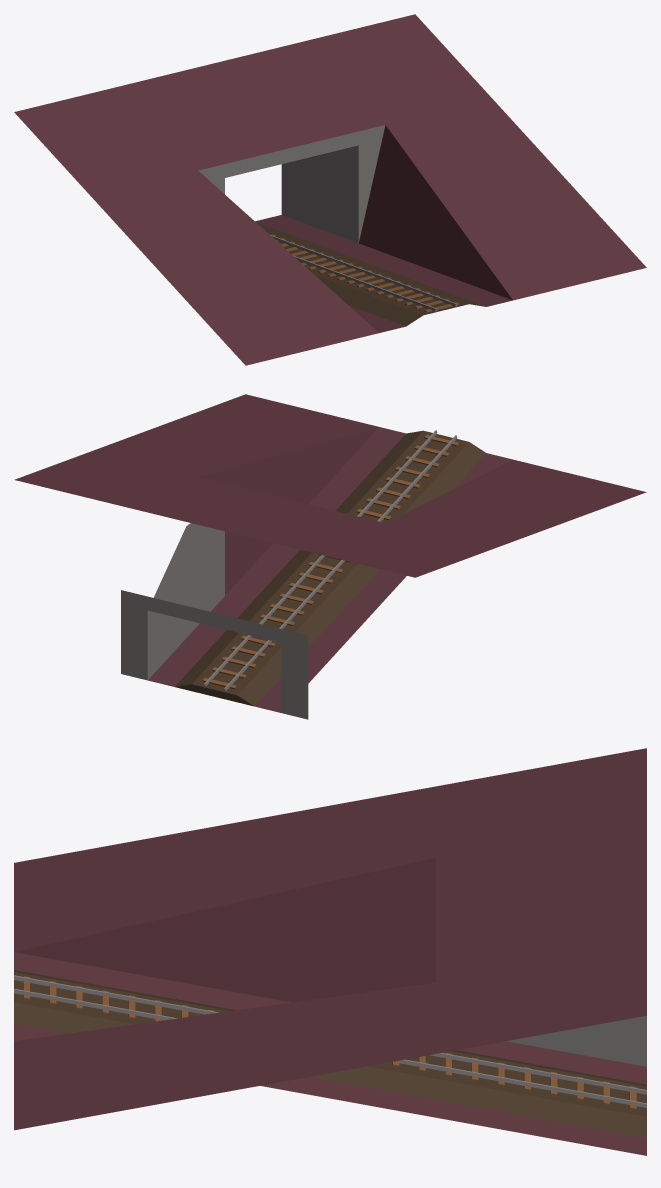
Rendered from tiles-nb-tile-rail-hill-tunnel-entrance-nb.glb.
The picture shows the model from 3 angles, top to bottom: view 1: azimuth 30°, elevation 25°; view 2: azimuth 150°, elevation 25°; view 3: azimuth 270°, elevation 25°; orthographic projection. The views are drawn at different scales.
Visible parts, largest first — view 1: tile-rail-hill-tunnel-entrance-nb; view 2: tile-rail-hill-tunnel-entrance-nb; view 3: tile-rail-hill-tunnel-entrance-nb.
Boxes of the visible parts, bbox=[...] form: tile-rail-hill-tunnel-entrance-nb: bbox=[14, 14, 646, 365]; tile-rail-hill-tunnel-entrance-nb: bbox=[14, 394, 646, 719]; tile-rail-hill-tunnel-entrance-nb: bbox=[14, 748, 646, 1155].
Bounding box in the file's own units: 30 × 12 × 30.
